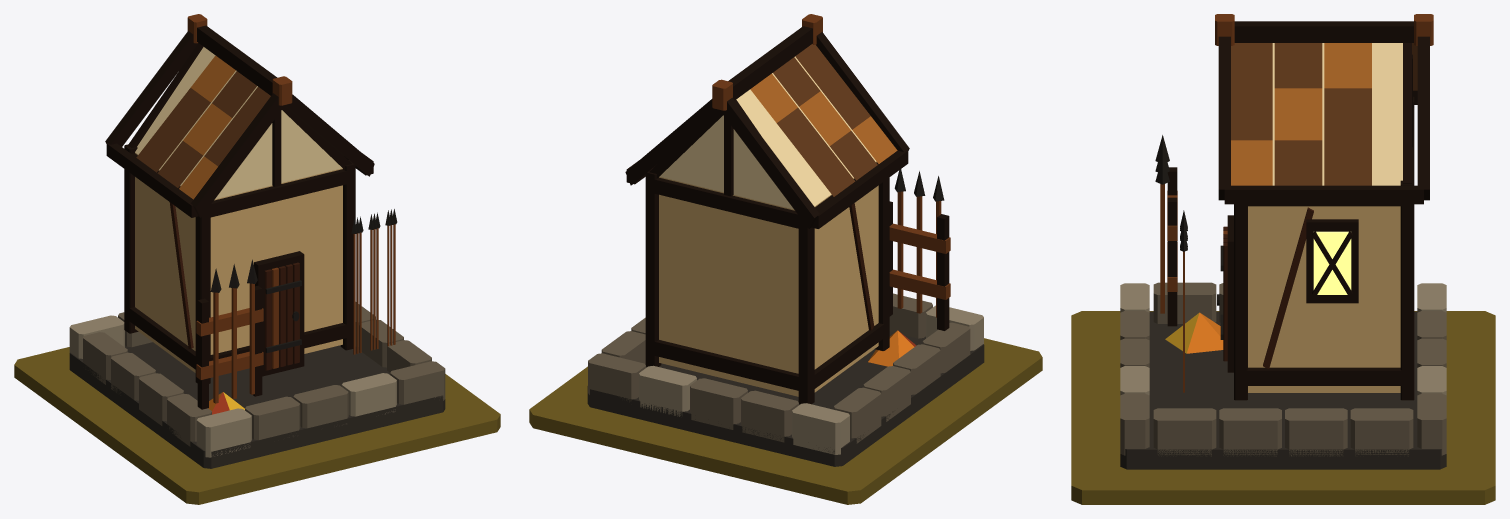
Rendered from fletcher_t2.glb.
3 views of the same model, side by side, from view 1: azimuth 30°, elevation 25°; view 2: azimuth 150°, elevation 25°; view 3: azimuth 270°, elevation 25° (orthographic). The views are drawn at different scales.
Visible parts, largest first — view 1: MMR | fletcher | T02 Architecture.001, MMR | fletcher | Tier 02 Ground.001; view 2: MMR | fletcher | T02 Architecture.001, MMR | fletcher | Tier 02 Ground.001, MMR | fletcher | T02 Autumn Dressing.001; view 3: MMR | fletcher | T02 Architecture.001, MMR | fletcher | Tier 02 Ground.001, MMR | fletcher | T02 Autumn Dressing.001.
Part boxes in pixels (left/top/right/bottom): MMR | fletcher | T02 Architecture.001: left=69, top=14, right=445, bottom=468; MMR | fletcher | Tier 02 Ground.001: left=14, top=347, right=500, bottom=504; MMR | fletcher | T02 Architecture.001: left=587, top=14, right=984, bottom=466; MMR | fletcher | Tier 02 Ground.001: left=529, top=338, right=1042, bottom=504; MMR | fletcher | T02 Autumn Dressing.001: left=868, top=330, right=916, bottom=366; MMR | fletcher | T02 Architecture.001: left=1120, top=14, right=1446, bottom=469; MMR | fletcher | Tier 02 Ground.001: left=1071, top=311, right=1495, bottom=504; MMR | fletcher | T02 Autumn Dressing.001: left=1165, top=312, right=1223, bottom=353.
Bounding box in the file's own units: 1.3 × 1.34 × 1.3.
2 materials, 1 textured.
